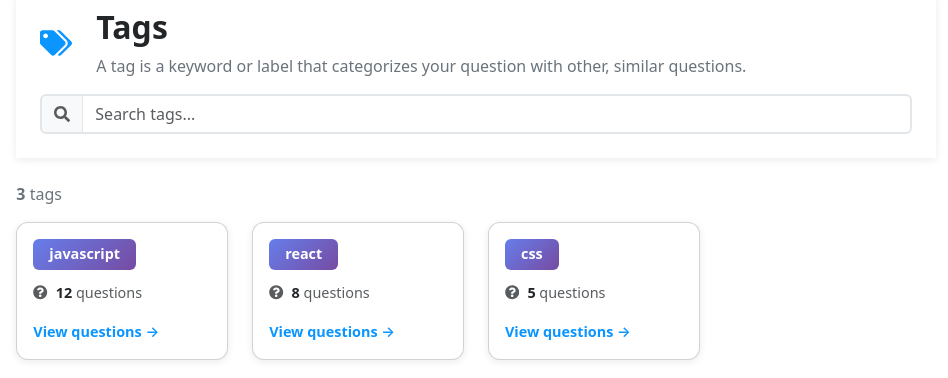
Tags Page › filters tags by search query
Check: the text "javascript" is shown, box 33,239 -> 136,270
In the field with placeholder "Search tags...": (497, 114) 83,94 -> 912,134, type "java"
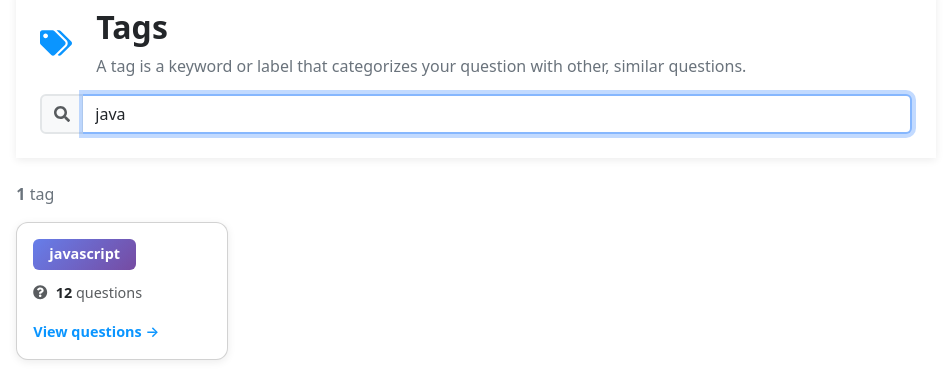
Check: the text "javascript" is shown, box 33,239 -> 136,270
Check: the link "react" is gone
Check: the link "css" is gone
